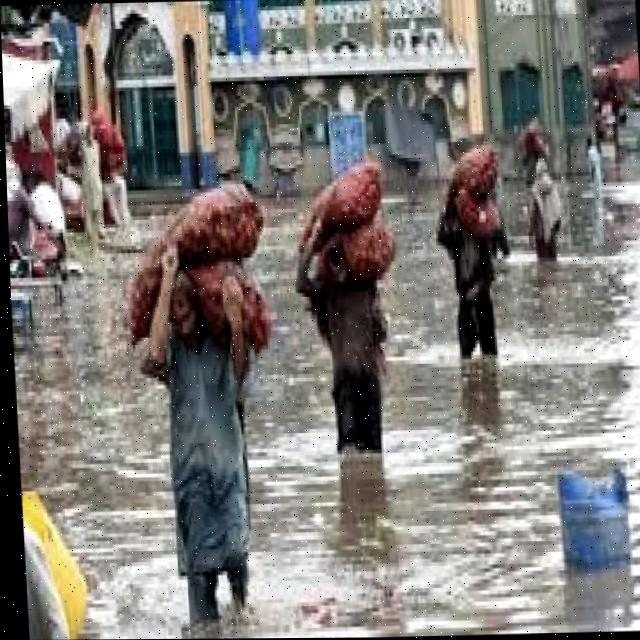civilian: (129, 258, 276, 622), (293, 240, 401, 454), (435, 202, 515, 366), (520, 152, 572, 264), (577, 123, 611, 188)
